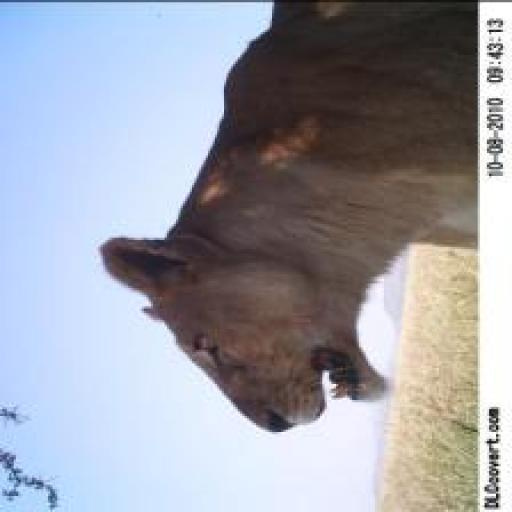lion: (89, 2, 472, 439)
